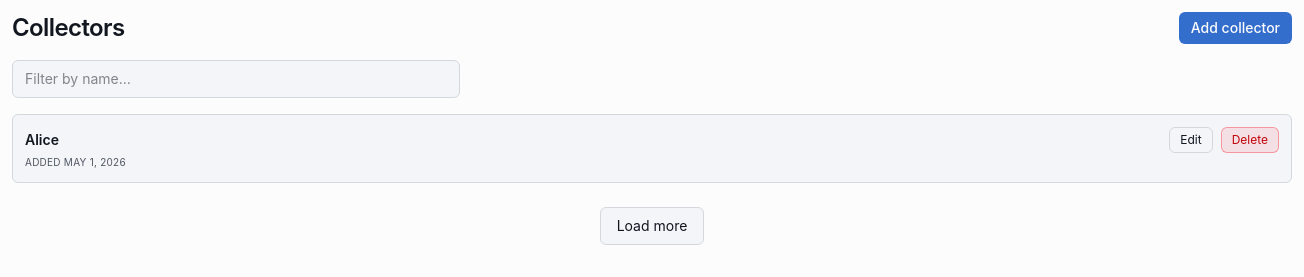
Collectors route › paginates with a load-more button when next_cursor is present
This screenshot has width=1304, height=277.
Check: the link "Alice" is shown, box [25,131,59,148]
Click the button with test id "load-more": click(652, 226) [600,207,704,245]
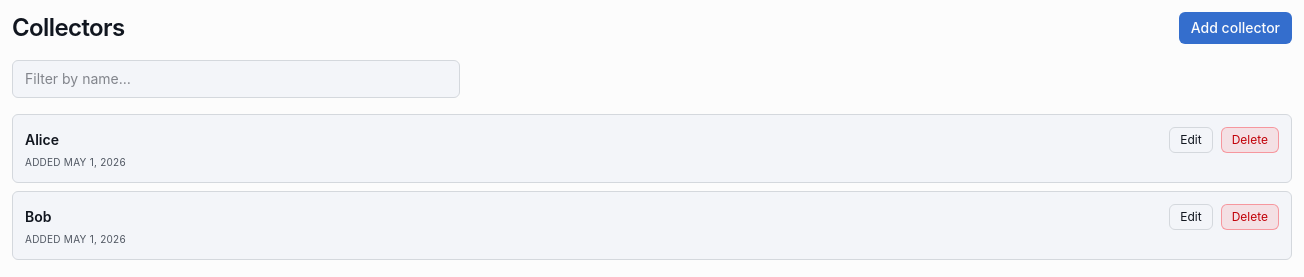
Check: the link "Alice" is shown, box [25,131,59,148]
Check: the link "Bob" is shown, box [25,208,52,225]
